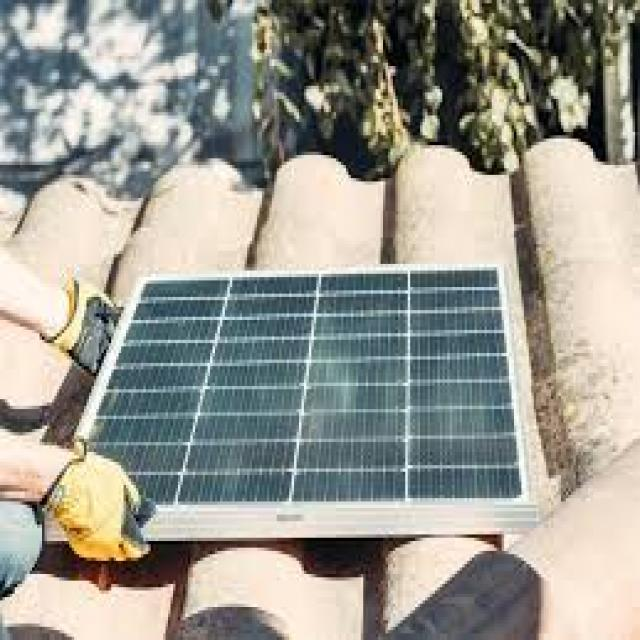faulty: (104, 278, 520, 493)
